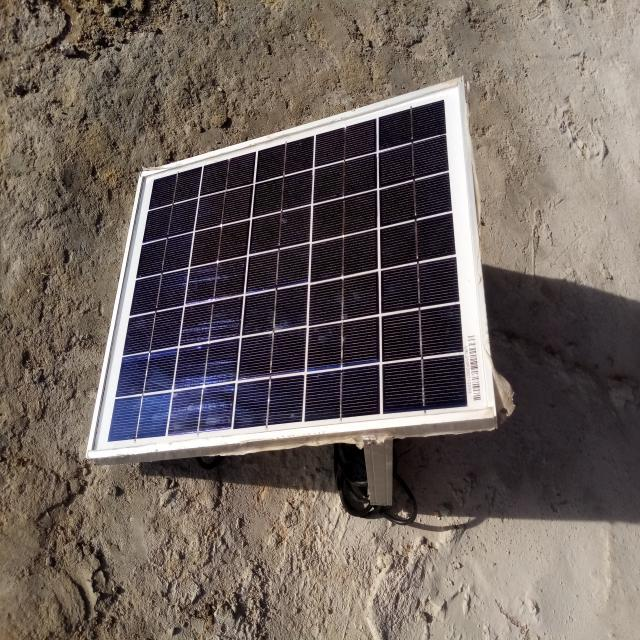no faulty: (89, 80, 495, 453)
